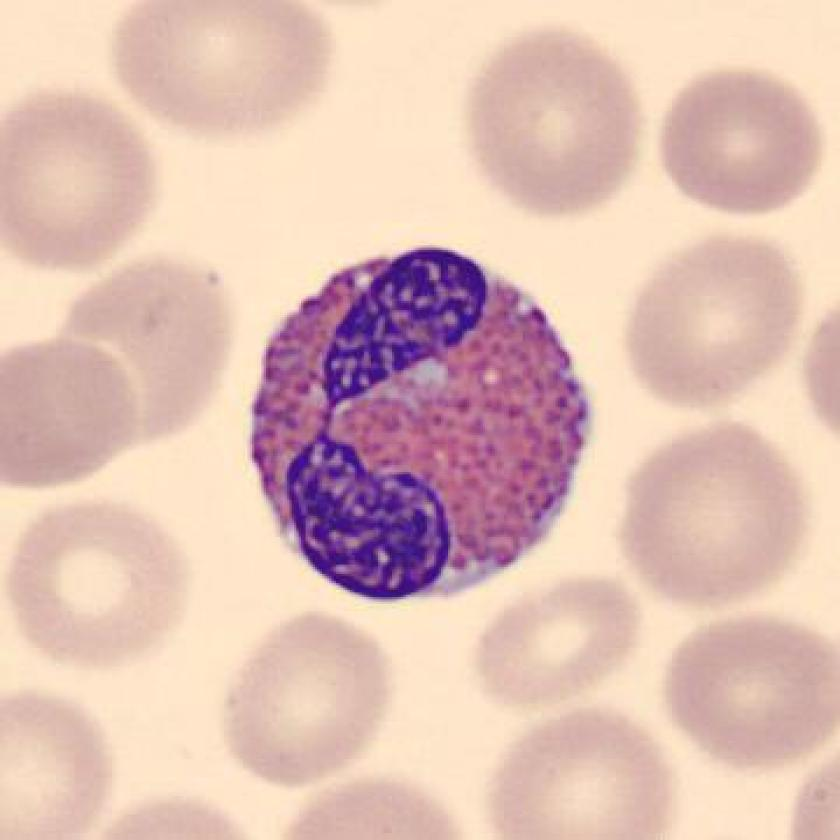eosinophil: (241, 242, 601, 610)
